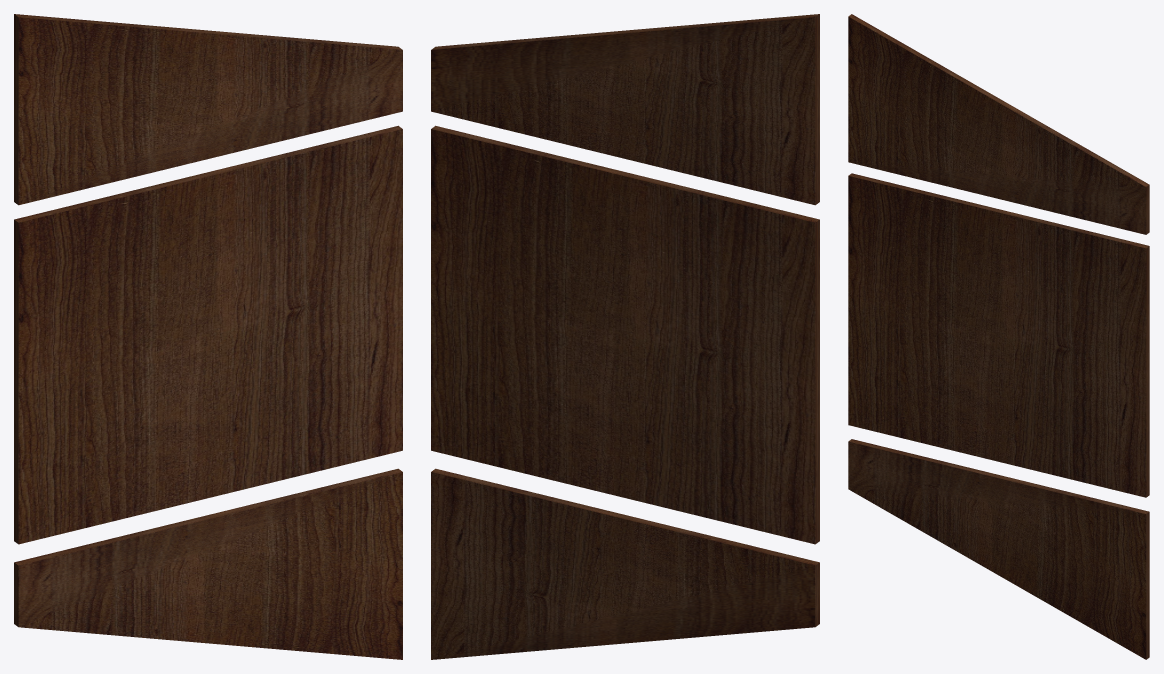
File: wallArt2.FBX
3 views of the same model, side by side, from view 1: azimuth 30°, elevation 25°; view 2: azimuth 150°, elevation 25°; view 3: azimuth 330°, elevation 25° (orthographic). The views are drawn at different scales.
Parts seen in each view (by area): view 1: Box001, Box002, Box003; view 2: Box001, Box002, Box003; view 3: Box001, Box002, Box003.
Boxes of the visible parts, x1=… form: Box001: x1=14, y1=125, x2=402, y2=544; Box002: x1=14, y1=14, x2=402, y2=205; Box003: x1=14, y1=468, x2=402, y2=659; Box001: x1=431, y1=125, x2=819, y2=544; Box002: x1=431, y1=14, x2=819, y2=205; Box003: x1=431, y1=468, x2=819, y2=659; Box001: x1=848, y1=173, x2=1149, y2=497; Box002: x1=848, y1=14, x2=1149, y2=234; Box003: x1=848, y1=439, x2=1149, y2=659.
Bounding box in the file's own units: 39.37 × 72.1 × 0.7874.
1 material, 1 textured.
